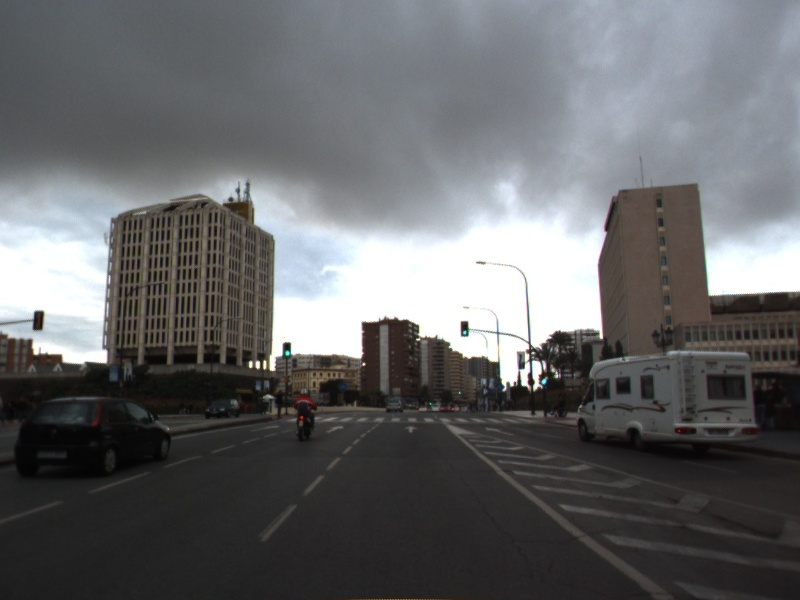STRAIGHT: (482, 424, 518, 438), (248, 423, 282, 434), (323, 423, 346, 435), (402, 423, 421, 435)
